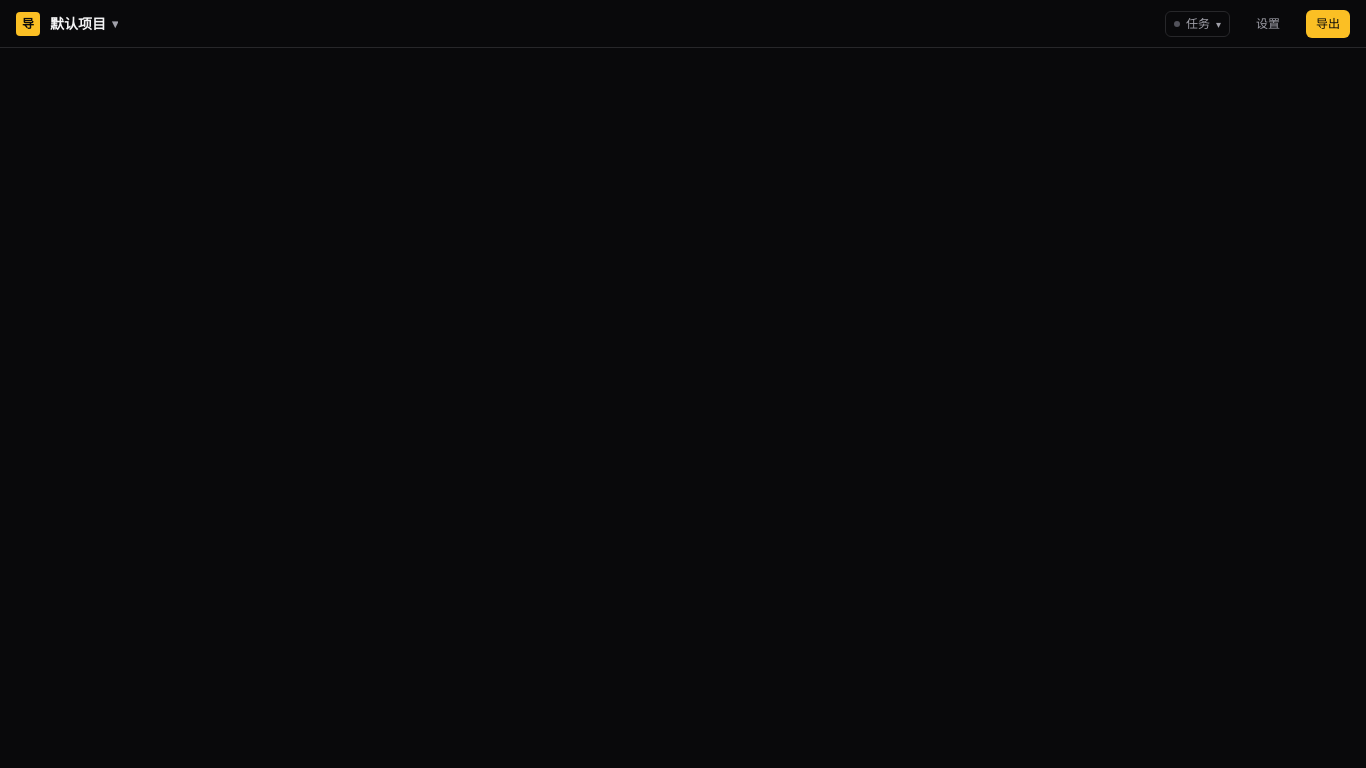
Test case: top bar project management › creates a new project from the dialog
The width and height of the screenshot is (1366, 768).
Click the button with test id "topbar-project": (84, 24) [50,14,118,34]
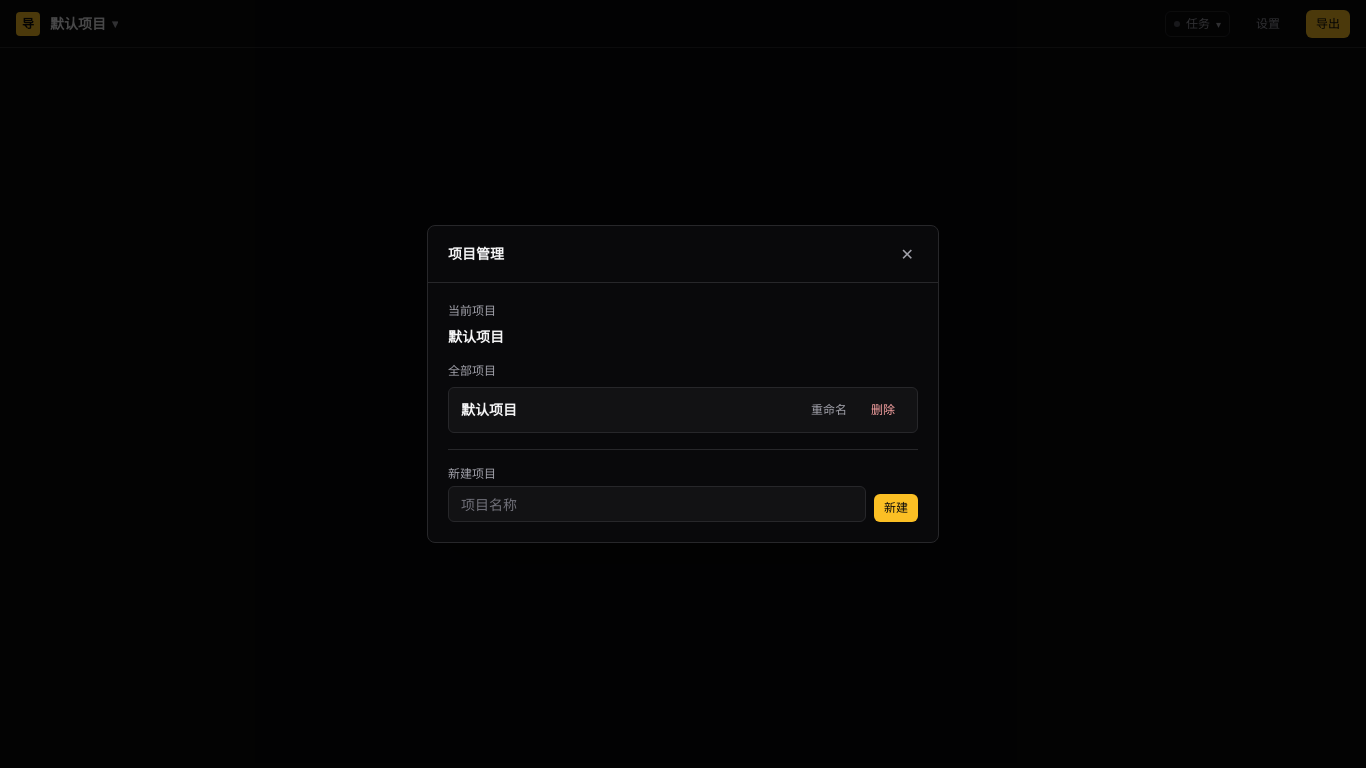
In the field with test id "new-project-input": (657, 504) [448,486,866,522], type "新项目甲"
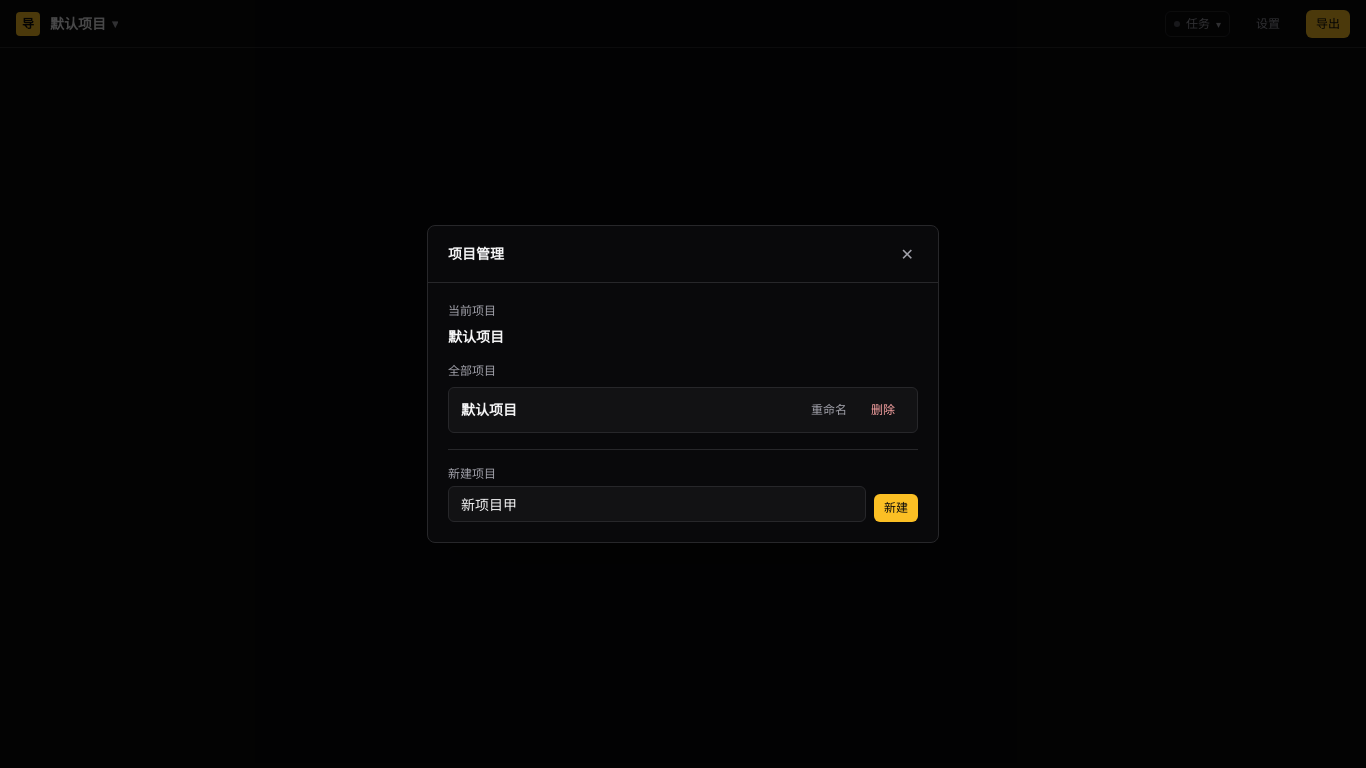
Click the button with test id "new-project-create": (896, 508) [874,494,918,522]
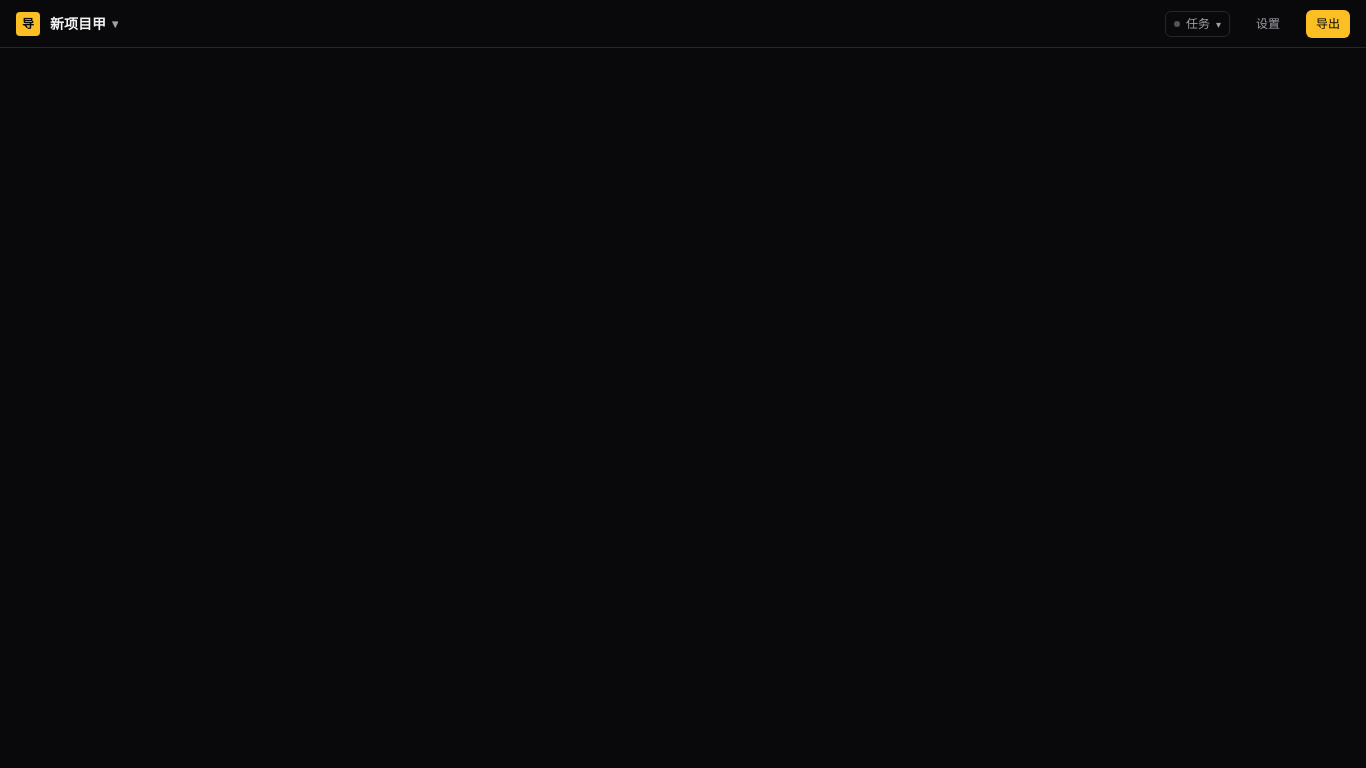
Check: the text "新项目甲" is shown, box [50,14,106,34]
